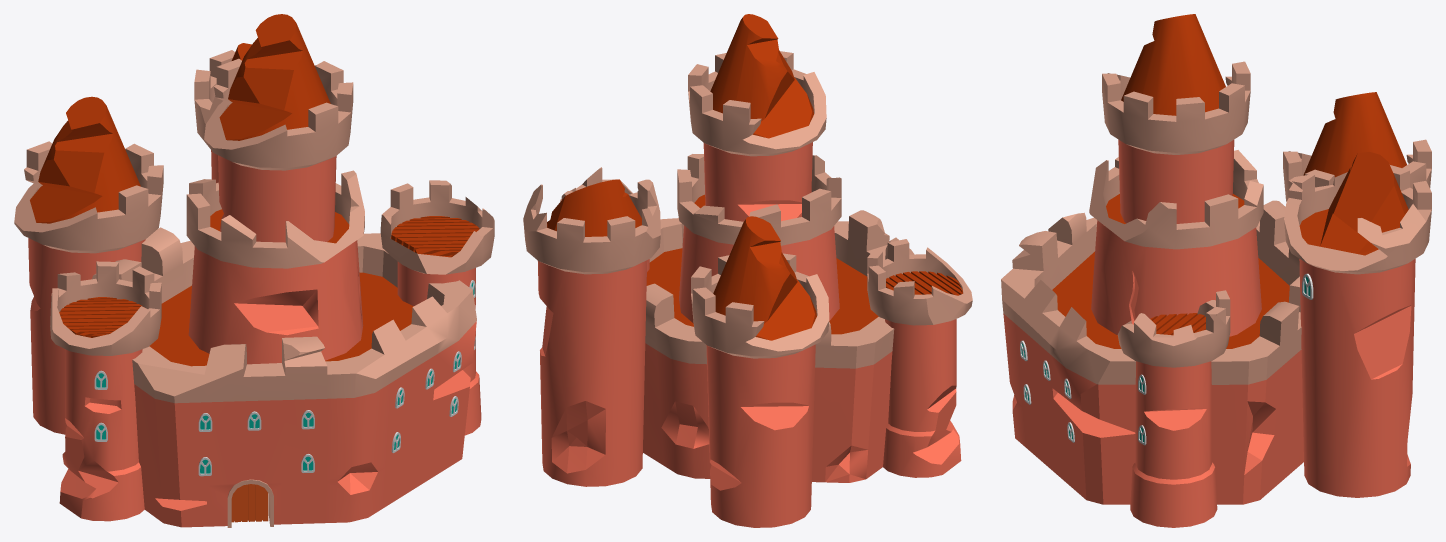
Rendered from Big_Castle_Upgrade1_Stage2.fbx.
The picture shows the model from 3 angles, left to right: view 1: azimuth 30°, elevation 25°; view 2: azimuth 150°, elevation 25°; view 3: azimuth 270°, elevation 25°; orthographic projection. The views are drawn at different scales.
Visible parts, largest first — view 1: Big_Castle_Upgrade1_Stage2; view 2: Big_Castle_Upgrade1_Stage2; view 3: Big_Castle_Upgrade1_Stage2.
Part boxes in pixels (<box>): Big_Castle_Upgrade1_Stage2: <box>14,14,494,527</box>; Big_Castle_Upgrade1_Stage2: <box>523,14,972,527</box>; Big_Castle_Upgrade1_Stage2: <box>1001,14,1431,527</box>.
Bounding box in the file's own units: 962 × 931 × 853.
1 material, 1 textured.
